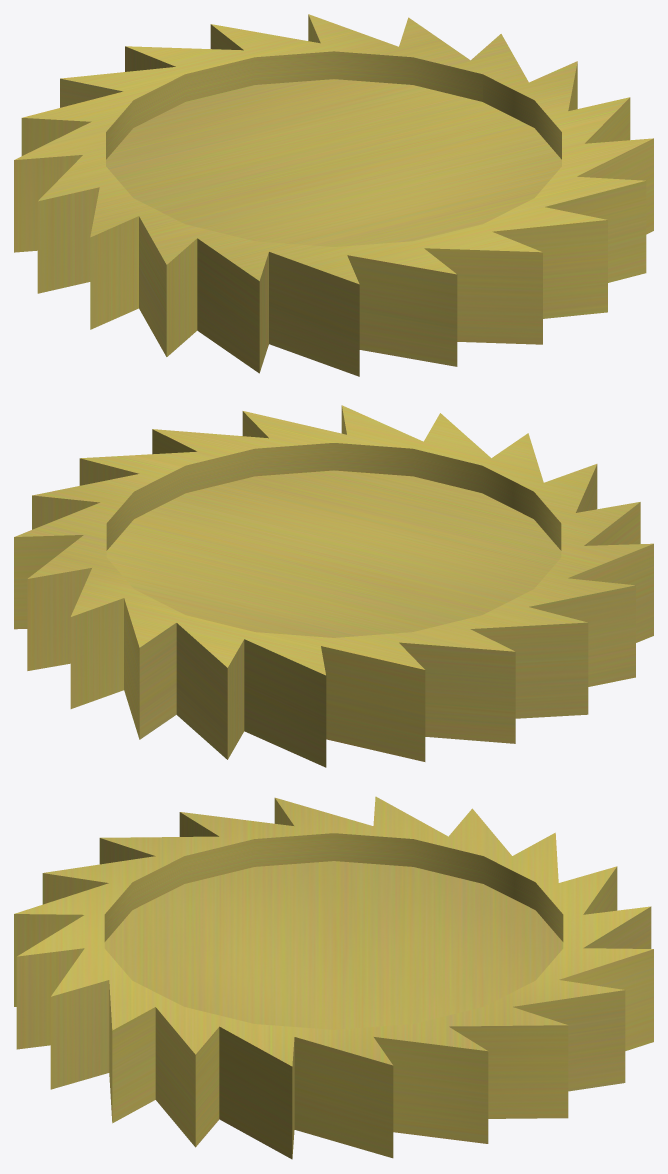
Rendered from ClockAngleFacet4Spoke020.fbx.
The picture shows the model from 3 angles, top to bottom: view 1: azimuth 30°, elevation 25°; view 2: azimuth 150°, elevation 25°; view 3: azimuth 270°, elevation 25°; orthographic projection.
Visible parts, largest first — view 1: ClockAngleFacet4Spoke020; view 2: ClockAngleFacet4Spoke020; view 3: ClockAngleFacet4Spoke020.
Part boxes in pixels (x1=…): ClockAngleFacet4Spoke020: x1=14, y1=14, x2=653, y2=376; ClockAngleFacet4Spoke020: x1=14, y1=405, x2=653, y2=767; ClockAngleFacet4Spoke020: x1=14, y1=796, x2=653, y2=1159.
Size of the model in its own units: 123 by 19.69 by 123.
